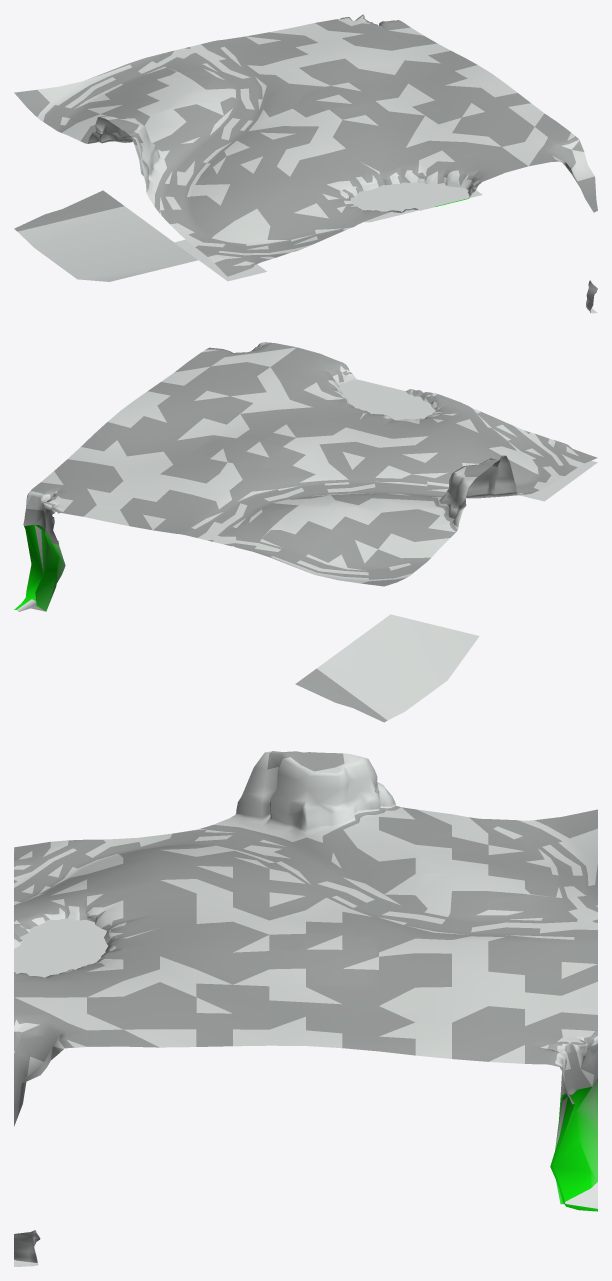
3 renders of one model, top to bottom at view 1: azimuth 30°, elevation 25°; view 2: azimuth 150°, elevation 25°; view 3: azimuth 270°, elevation 25°, orthographic. The views are drawn at different scales.
Parts seen in each view (by area): view 1: G:\FFXIV-MapTools\exports\f1f1\bg\ffxiv\fst_f1\fld\f1f1\bgpl (×17); view 2: G:\FFXIV-MapTools\exports\f1f1\bg\ffxiv\fst_f1\fld\f1f1\bgpl (×17); view 3: G:\FFXIV-MapTools\exports\f1f1\bg\ffxiv\fst_f1\fld\f1f1\bgpl (×17).
Part boxes in pixels (<box>): G:\FFXIV-MapTools\exports\f1f1\bg\ffxiv\fst_f1\fld\f1f1\bgpl (×17): <box>14,14,597,312</box>; G:\FFXIV-MapTools\exports\f1f1\bg\ffxiv\fst_f1\fld\f1f1\bgpl (×17): <box>14,342,597,722</box>; G:\FFXIV-MapTools\exports\f1f1\bg\ffxiv\fst_f1\fld\f1f1\bgpl (×17): <box>14,751,597,1264</box>.
Bounding box in the file's own units: 128 × 65.09 × 128.
